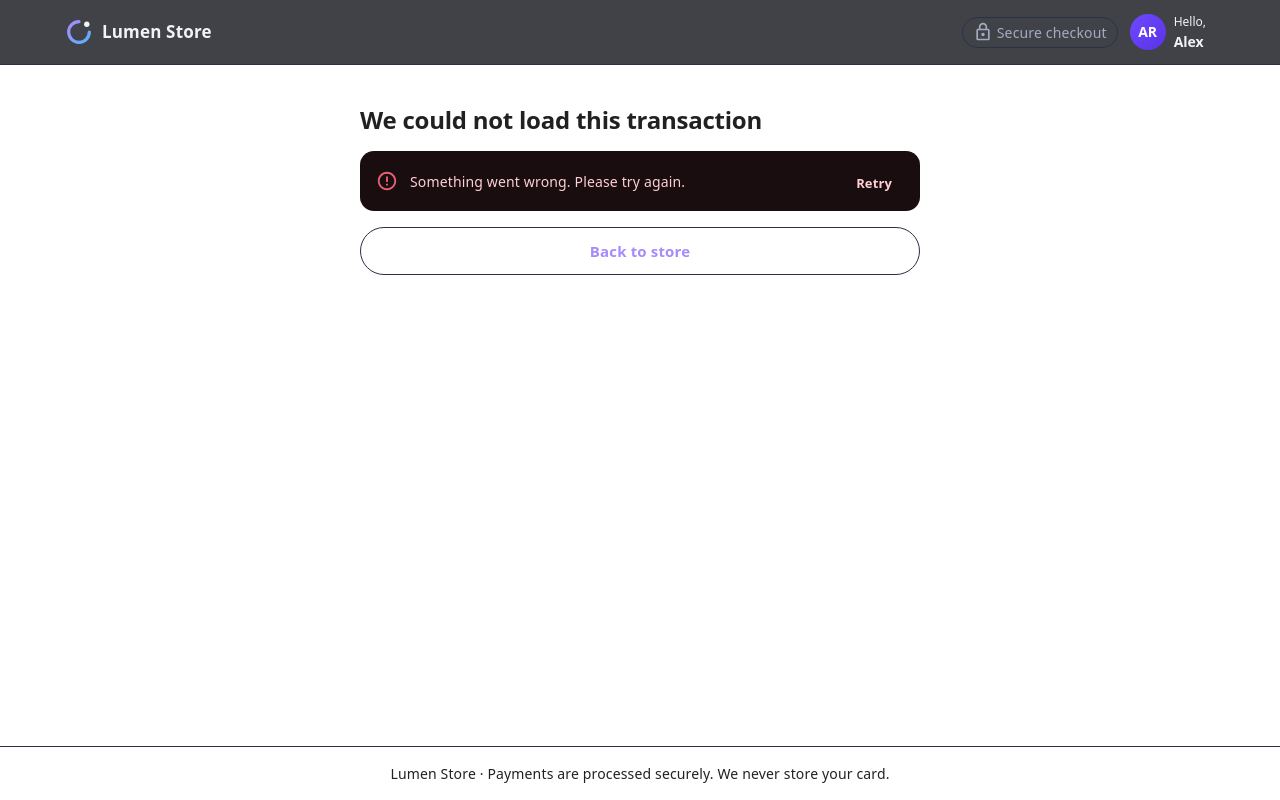
Scenario: TransactionStatusPage › AC-9: a failed read shows an alert and recovers with "Retry"
The image size is (1280, 800).
Expected: the message shows "Something went wrong. Please try again.", [410, 172, 685, 190]
Click the button "Retry".
click(874, 183)  # box [836, 161, 912, 205]
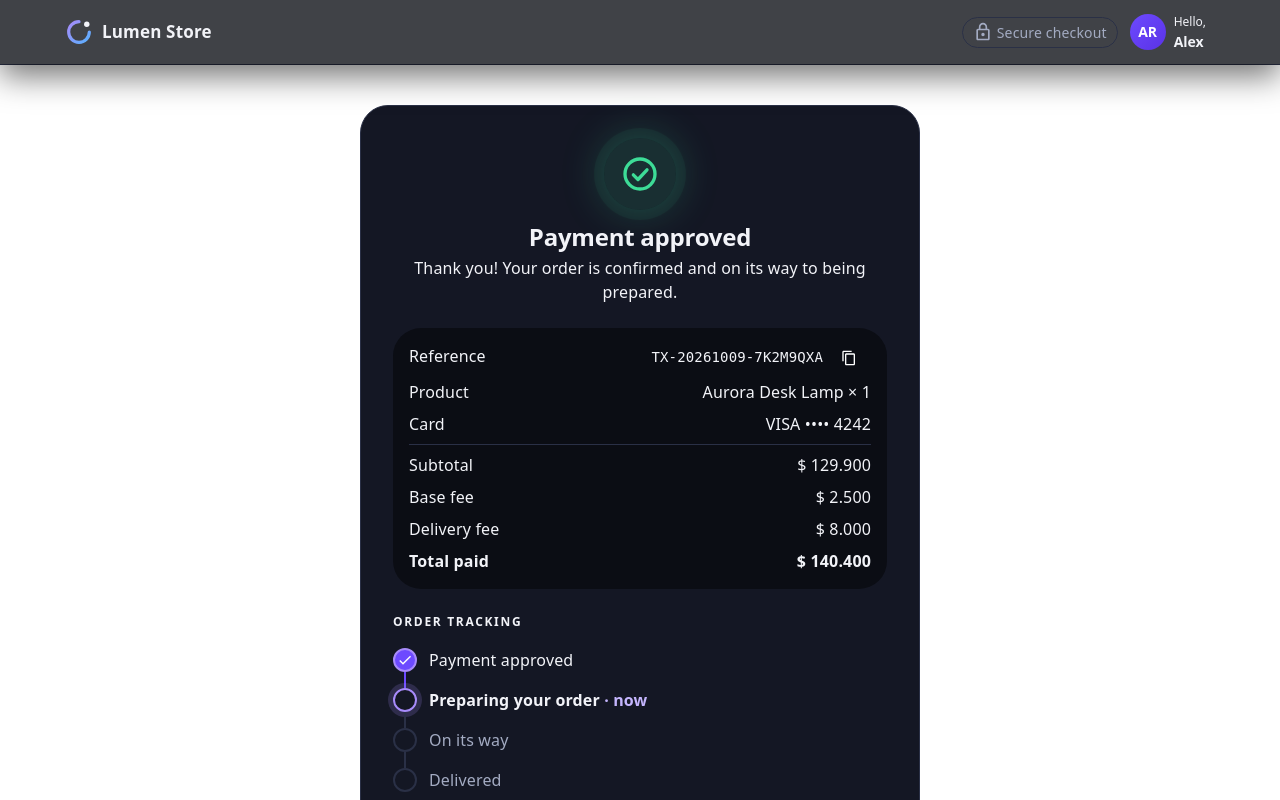
Expected: the heading "Payment approved" is shown, [529, 220, 751, 253]
